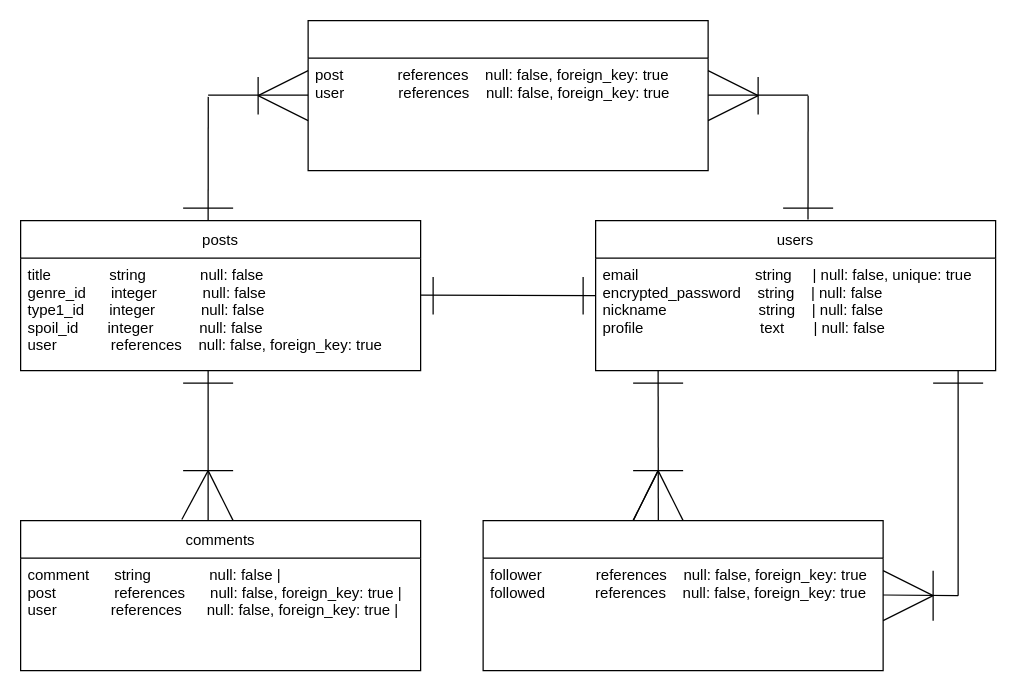
Image size: 1016x691. Some labels were removed from this diagram. The box of each missing label's shape, as (x1, y1, x2, y2) in pixels:
favorites: (307, 19, 708, 171)
relationships: (482, 519, 883, 671)
